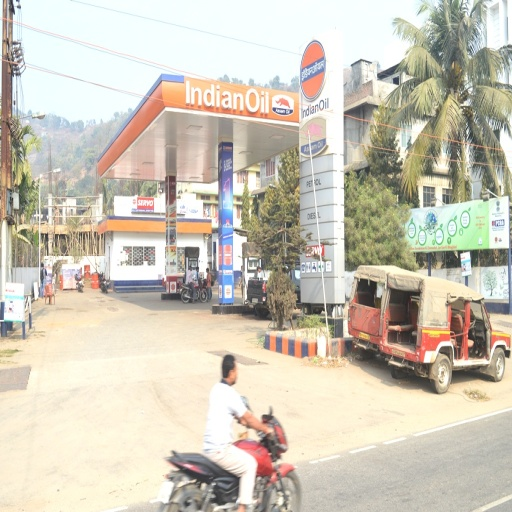roof: (97, 71, 335, 185)
